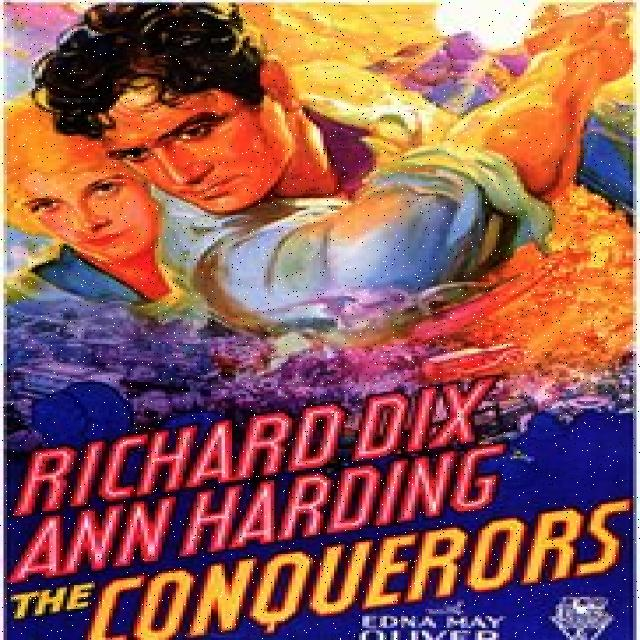movie-judul: (21, 380, 638, 640)
picture: (12, 7, 640, 348)
